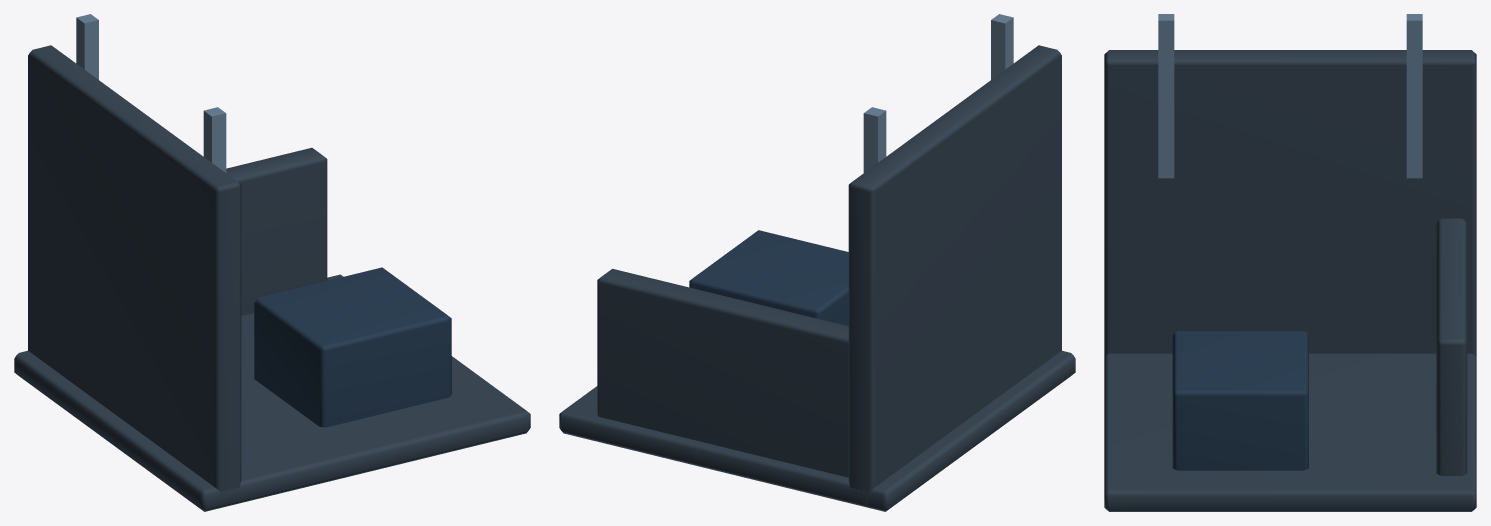
The model's file is ruin.glb.
The picture shows the model from 3 angles, left to right: view 1: azimuth 30°, elevation 25°; view 2: azimuth 150°, elevation 25°; view 3: azimuth 270°, elevation 25°; orthographic projection. The views are drawn at different scales.
Visible parts, largest first — view 1: Broken wall, Ruined floor, Fallen equipment, Broken wall.001, Exposed beam.001, Exposed beam; view 2: Broken wall, Broken wall.001, Ruined floor, Fallen equipment, Exposed beam, Exposed beam.001; view 3: Broken wall, Ruined floor, Fallen equipment, Broken wall.001, Exposed beam, Exposed beam.001.
Part boxes in pixels (x1,y1,x2,y2): Broken wall: (28,45,241,508); Ruined floor: (14,274,530,511); Fallen equipment: (254,267,451,427); Broken wall.001: (226,147,327,316); Exposed beam.001: (203,107,226,172); Exposed beam: (76,14,98,79); Broken wall: (848,45,1061,508); Broken wall.001: (597,268,848,477); Ruined floor: (559,350,1075,511); Fallen equipment: (689,230,848,326); Exposed beam: (863,107,886,172); Exposed beam.001: (991,14,1013,79); Broken wall: (1104,50,1476,355); Ruined floor: (1104,353,1476,511); Fallen equipment: (1172,331,1308,470); Broken wall.001: (1436,218,1467,475); Exposed beam: (1406,14,1422,178); Exposed beam.001: (1158,14,1174,178).
Size of the model in its own units: 3 by 3.2 by 3.
